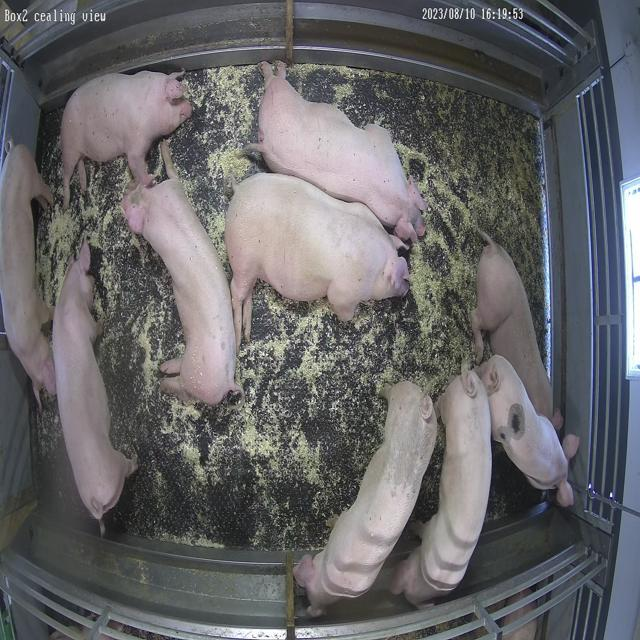Dirt: (408, 80, 544, 210)
Pig: (295, 383, 438, 618), (225, 173, 408, 346), (254, 62, 427, 243), (122, 153, 241, 406), (52, 241, 137, 522), (394, 371, 493, 606), (60, 71, 192, 206), (473, 231, 554, 418), (0, 144, 55, 400), (477, 356, 569, 490)
